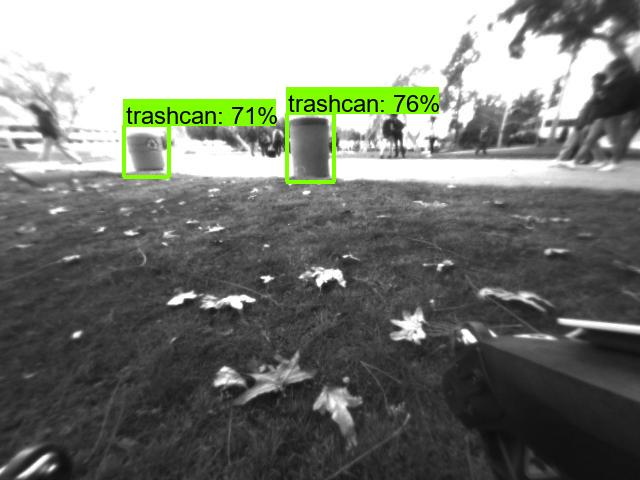trashcan: (291, 116, 326, 181), (127, 129, 166, 175)
